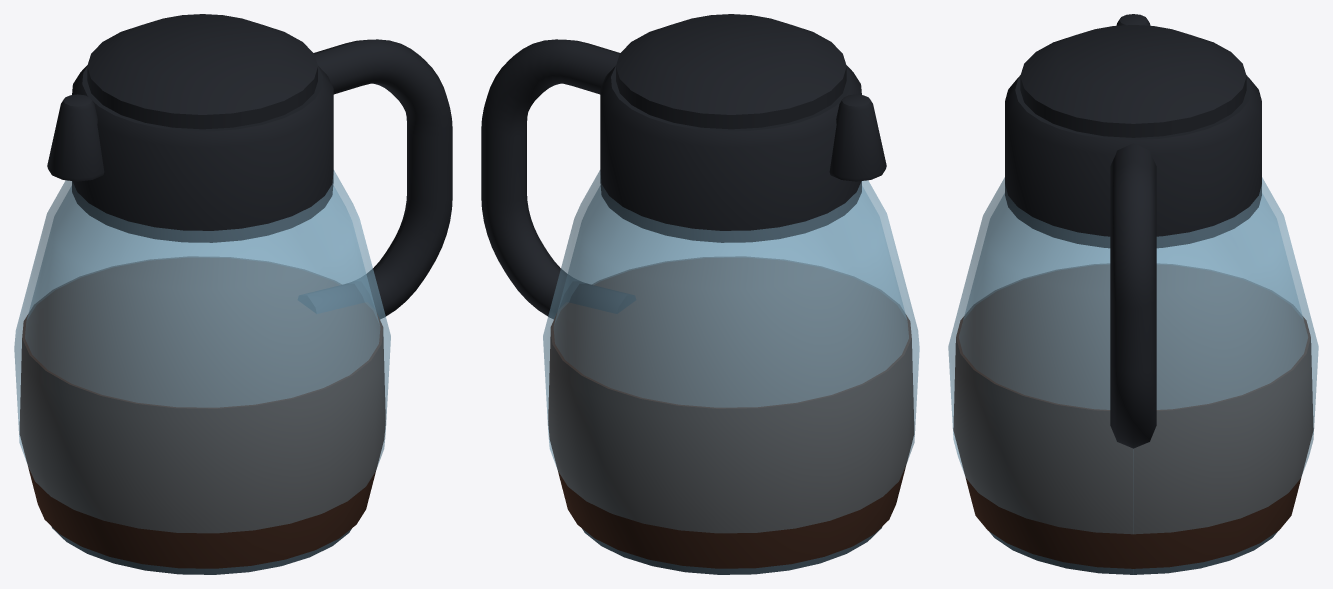
The model's file is bule_cafe_vidro.glb.
3 views of the same model, side by side, from view 1: azimuth 30°, elevation 25°; view 2: azimuth 150°, elevation 25°; view 3: azimuth 270°, elevation 25° (orthographic). The views are drawn at different scales.
Visible parts, largest first — view 1: bule_cafe_vidro; view 2: bule_cafe_vidro; view 3: bule_cafe_vidro.
Boxes of the visible parts, x1,y1,x2,y2 form: bule_cafe_vidro: (14,14,452,574); bule_cafe_vidro: (481,14,919,574); bule_cafe_vidro: (948,14,1318,574).
Bounding box in the file's own units: 0.181 × 0.196 × 0.144.
2 materials, 1 textured.
